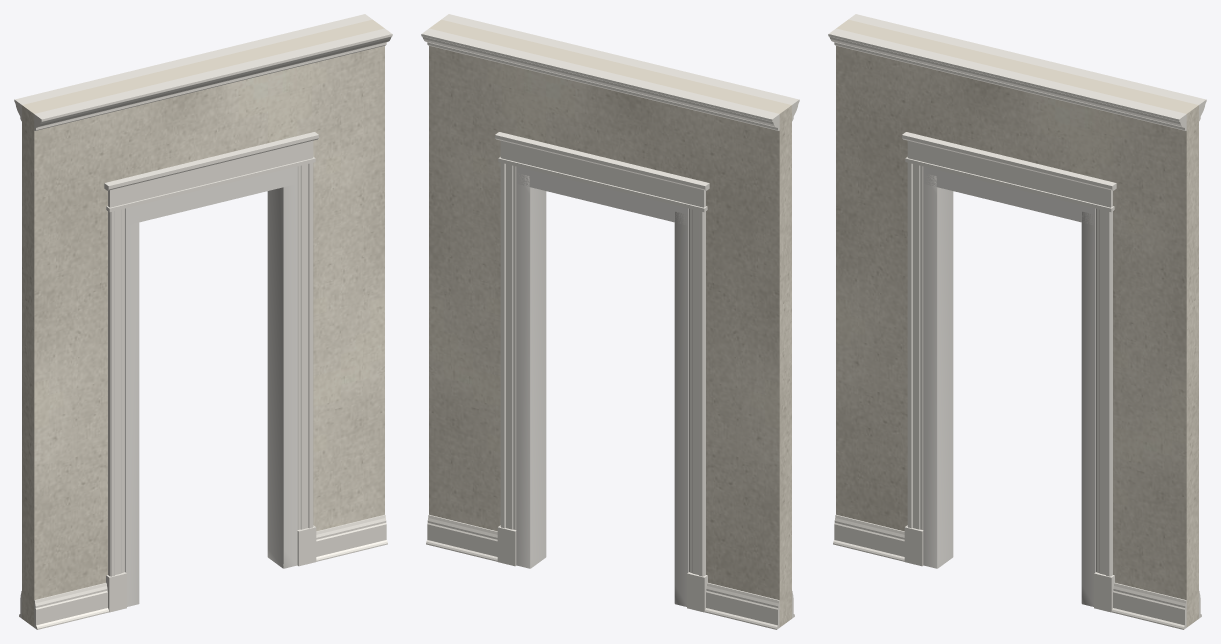
The model's file is interior_wall_doorway.glb.
3 renders of one model, left to right at view 1: azimuth 30°, elevation 25°; view 2: azimuth 150°, elevation 25°; view 3: azimuth 330°, elevation 25°, orthographic.
Visible parts, largest first — view 1: interior_wall_doorway_plaster, molduras, interior_wall_doorway_frame; view 2: interior_wall_doorway_plaster, molduras, interior_wall_doorway_frame; view 3: interior_wall_doorway_plaster, molduras, interior_wall_doorway_frame.
Boxes of the visible parts, x1,y1,x2,y2 form: interior_wall_doorway_plaster: [22, 19, 384, 627]; molduras: [14, 14, 392, 629]; interior_wall_doorway_frame: [125, 166, 297, 606]; interior_wall_doorway_plaster: [429, 19, 791, 627]; molduras: [421, 14, 799, 629]; interior_wall_doorway_frame: [516, 166, 688, 606]; interior_wall_doorway_plaster: [836, 19, 1198, 627]; molduras: [828, 14, 1206, 629]; interior_wall_doorway_frame: [923, 166, 1095, 606].
Size of the model in its own units: 2 by 2.8 by 0.27.
3 materials, 1 textured.
